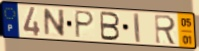4: (22, 5, 42, 38)
B: (99, 10, 121, 42)
I: (132, 12, 142, 44)
N: (43, 8, 67, 38)
P: (74, 9, 96, 39)
R: (154, 14, 178, 46)
